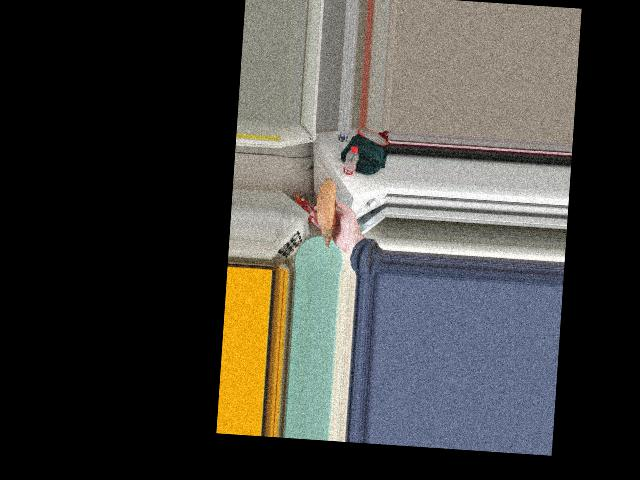sweet_potato: (315, 171, 342, 234)
